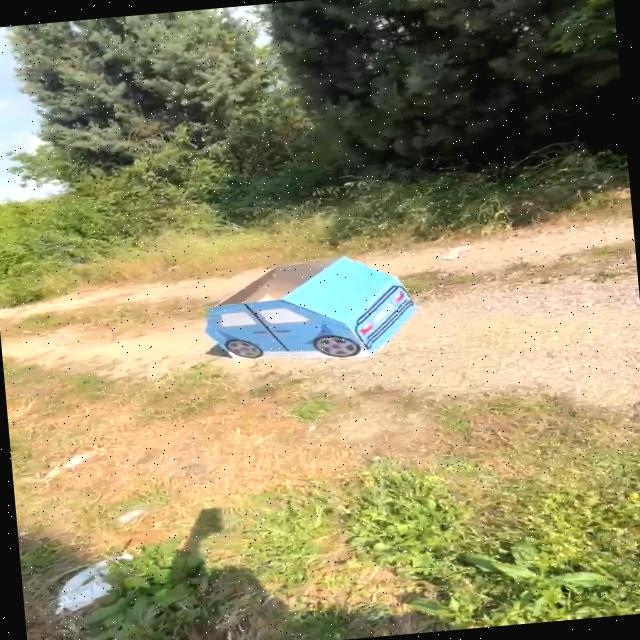blue_car: (181, 241, 436, 378)
